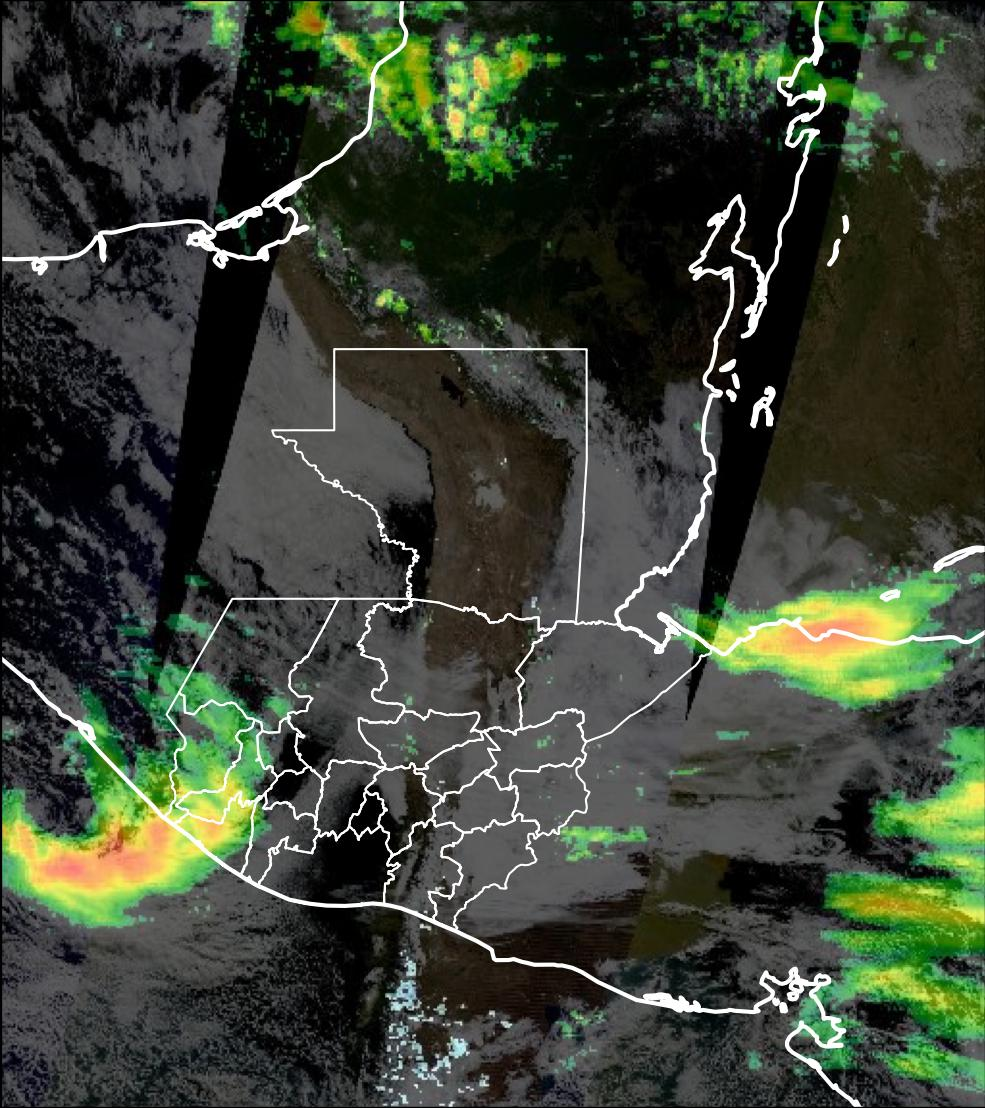precipitacion: (11, 801, 240, 907), (741, 607, 922, 686)
